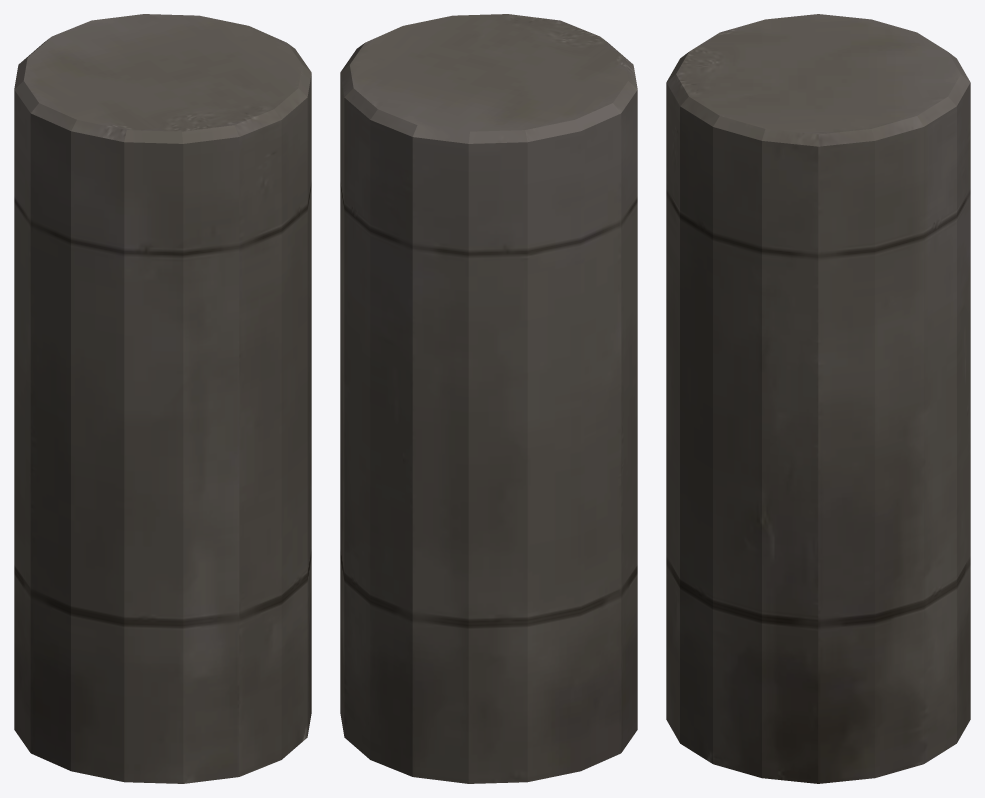
The model's file is strProp_34.glb.
3 views of the same model, side by side, from view 1: azimuth 30°, elevation 25°; view 2: azimuth 150°, elevation 25°; view 3: azimuth 270°, elevation 25° (orthographic).
Parts seen in each view (by area): view 1: geometry_0; view 2: geometry_0; view 3: geometry_0.
Part boxes in pixels (x1,y1,x2,y2): geometry_0: (14,14,311,783); geometry_0: (340,14,637,783); geometry_0: (666,14,970,783).
Bounding box in the file's own units: 0.3289 × 0.7702 × 0.3289.
1 material, 1 textured.
